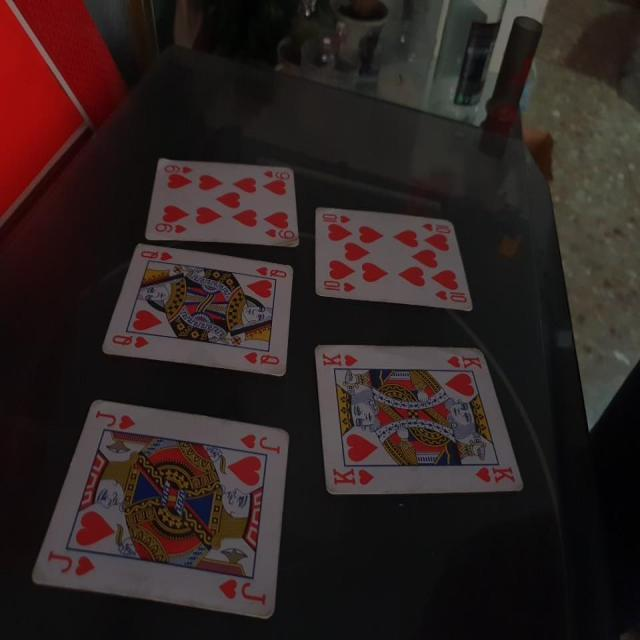10 of hearts: (310, 196, 480, 319)
9 of hearts: (136, 147, 304, 250)
jack of hearts: (24, 384, 294, 639)
king of hearts: (311, 334, 529, 499)
queen of hearts: (92, 240, 301, 386)
